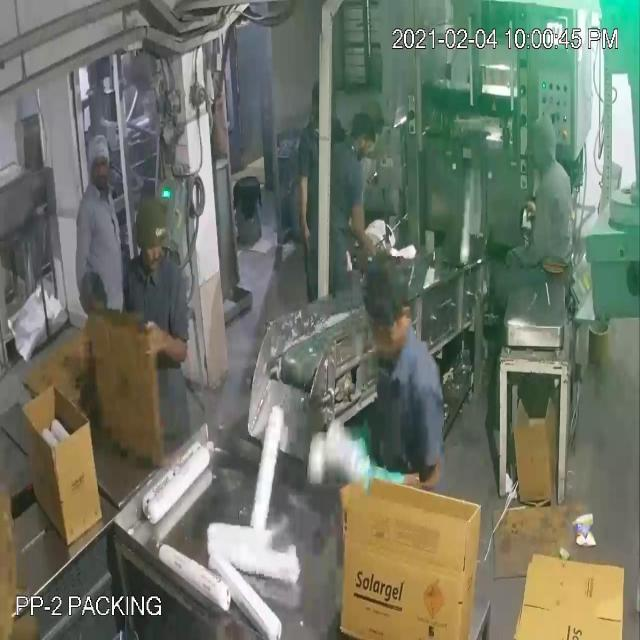No_Gloves: (24, 76, 362, 353)
